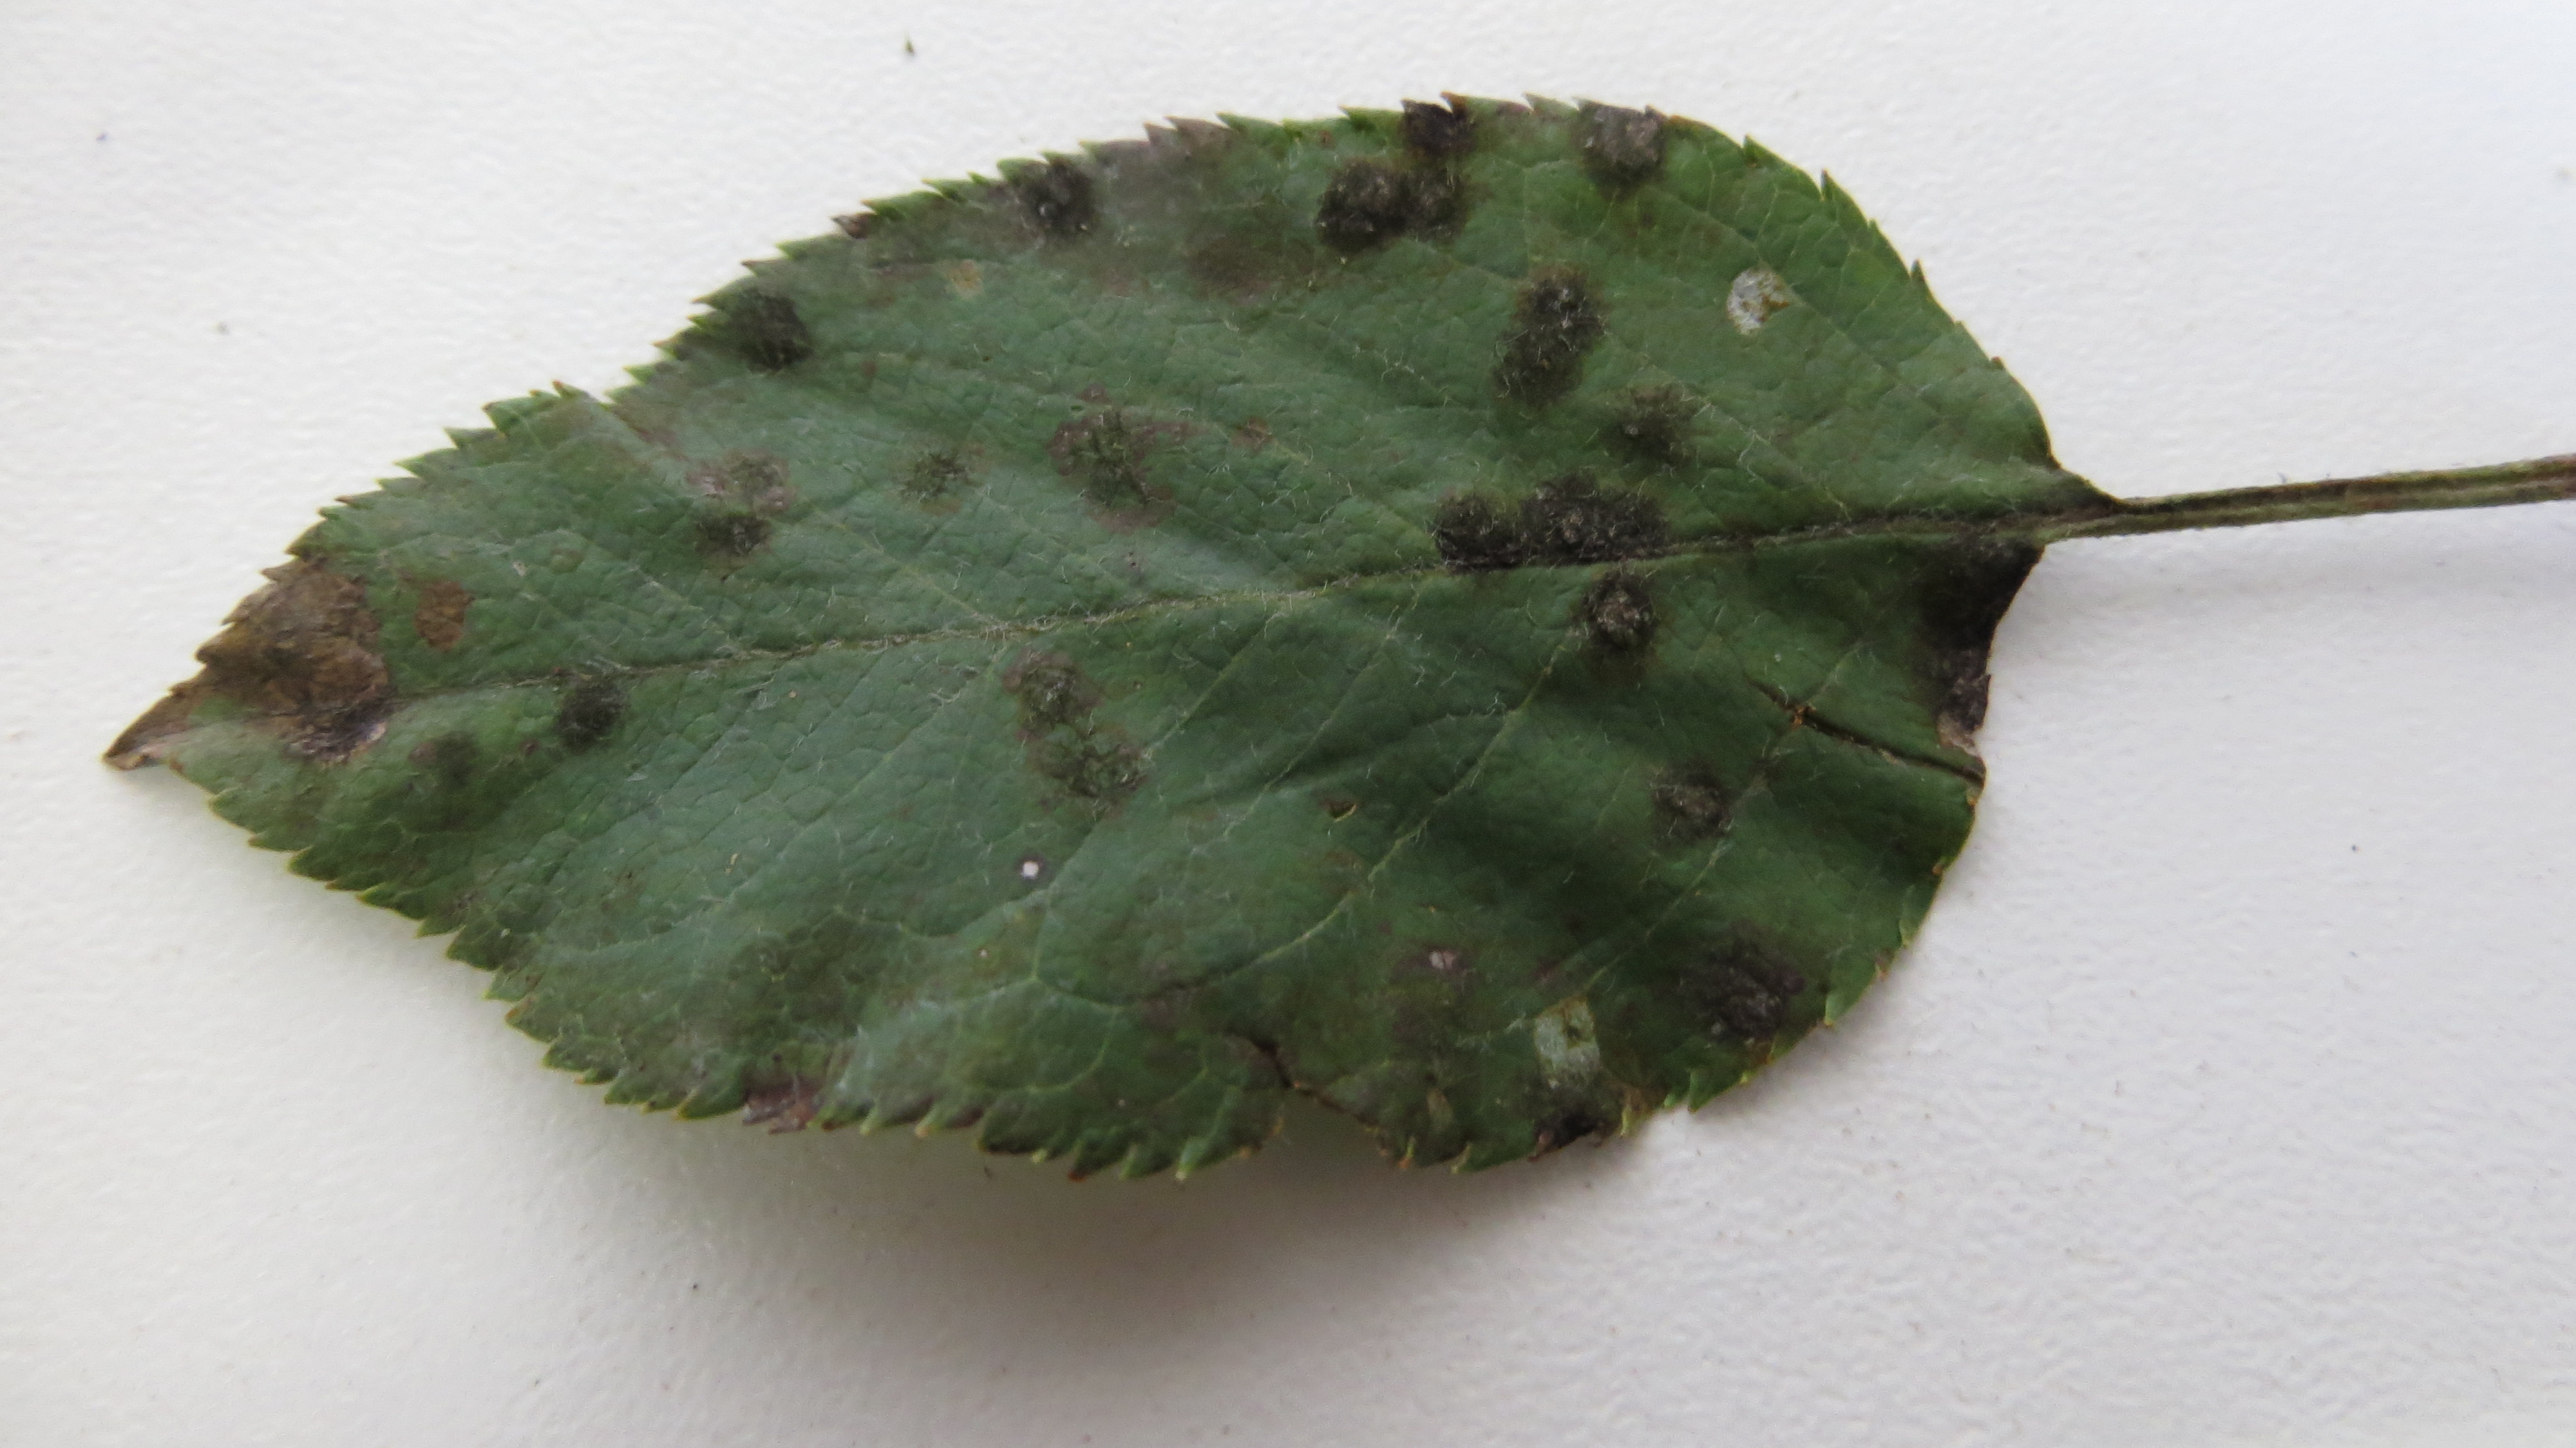sarna: (200, 542, 407, 761), (1120, 113, 1292, 296), (1316, 104, 1497, 274), (1419, 473, 1690, 584), (1891, 519, 2020, 745), (1651, 908, 1833, 1060), (1479, 239, 1615, 430), (1037, 377, 1187, 543), (1387, 981, 1493, 1167), (1008, 161, 1159, 290), (855, 209, 1014, 322), (681, 437, 810, 568), (1587, 372, 1707, 480), (1044, 710, 1152, 818), (1555, 561, 1665, 666), (1575, 101, 1688, 202), (1626, 747, 1730, 855), (1207, 995, 1307, 1105), (545, 646, 644, 758), (724, 1046, 839, 1136), (1380, 905, 1490, 995), (1525, 963, 1608, 1082), (407, 715, 506, 813), (398, 554, 490, 659), (727, 287, 824, 379), (1714, 241, 1792, 352), (1518, 1067, 1606, 1145), (1001, 648, 1099, 719), (911, 450, 993, 522)
